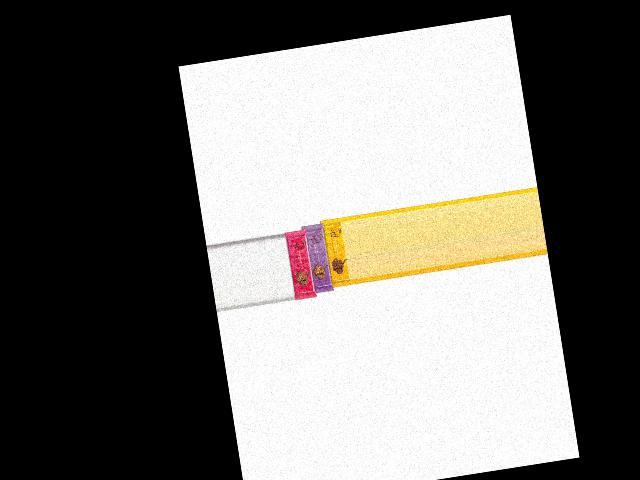chocolate: (283, 226, 317, 304)
